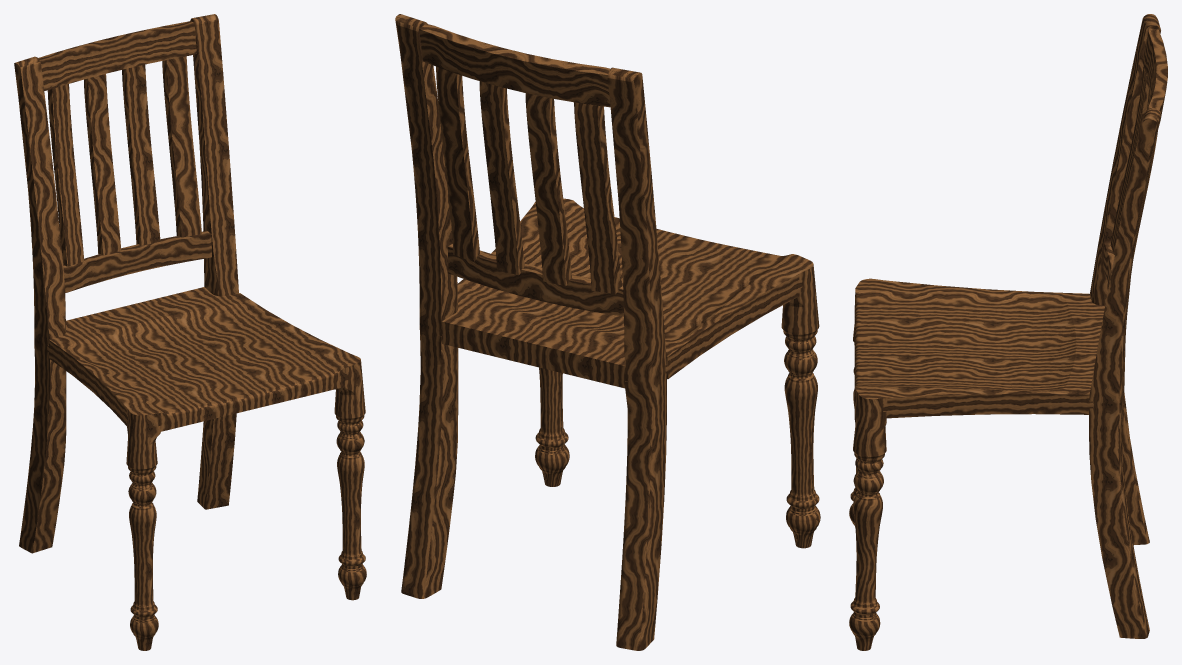
Rendered from traditional-turned.glb.
The picture shows the model from 3 angles, left to right: view 1: azimuth 30°, elevation 25°; view 2: azimuth 150°, elevation 25°; view 3: azimuth 270°, elevation 25°; orthographic projection. The views are drawn at different scales.
Visible parts, largest first — view 1: 3D_Walnut_-_Semigloss; view 2: 3D_Walnut_-_Semigloss; view 3: 3D_Walnut_-_Semigloss.
Part boxes in pixels (left/top/right/bottom): 3D_Walnut_-_Semigloss: left=14, top=14, right=366, bottom=650; 3D_Walnut_-_Semigloss: left=395, top=14, right=820, bottom=650; 3D_Walnut_-_Semigloss: left=849, top=14, right=1167, bottom=650.
Bounding box in the file's own units: 0.4827 × 0.9551 × 0.5239.
1 material, 1 textured.
